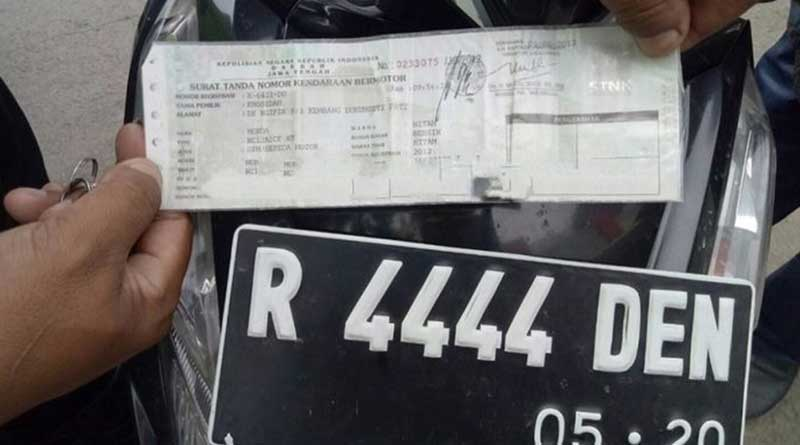plat nomor: (234, 232, 741, 445)
